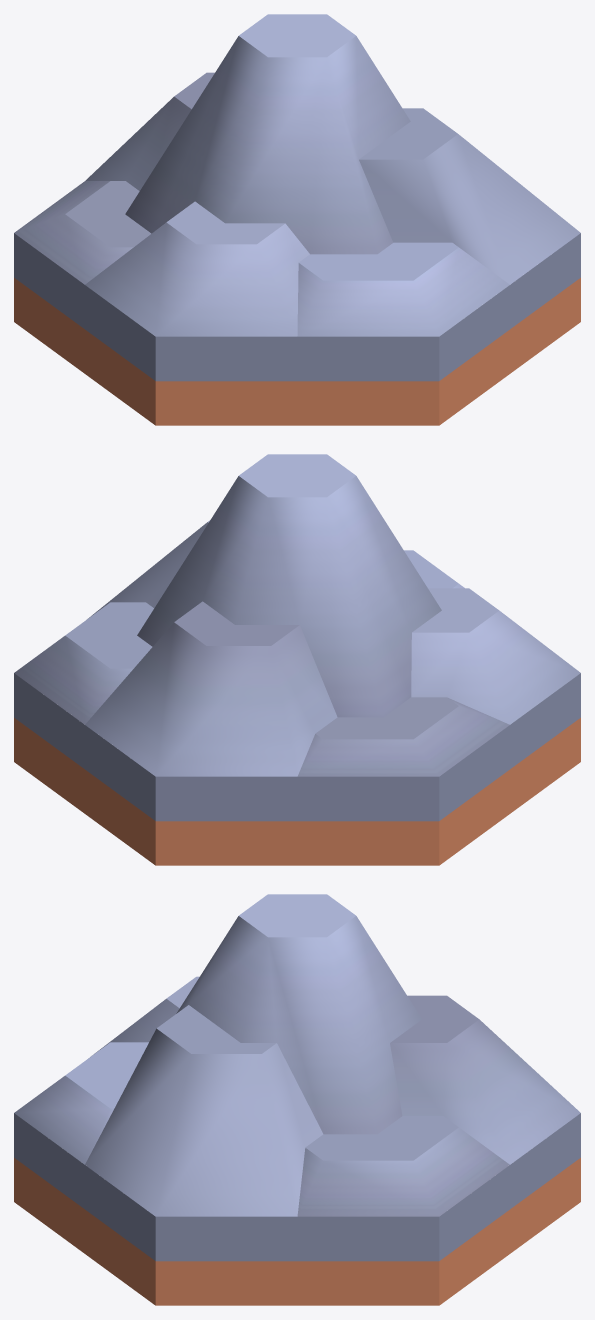
File: kenney-hexagon-stone-hill.glb
3 views of the same model, one above another, from view 1: azimuth 30°, elevation 25°; view 2: azimuth 150°, elevation 25°; view 3: azimuth 270°, elevation 25° (orthographic).
Parts seen in each view (by area): view 1: stone_hill; view 2: stone_hill; view 3: stone_hill.
Boxes of the visible parts, <box> form: stone_hill: <box>14,14,580,425</box>; stone_hill: <box>14,454,580,865</box>; stone_hill: <box>14,894,580,1305</box>.
Bounding box in the file's own units: 1 × 0.6433 × 1.15.
1 material, 1 textured.
